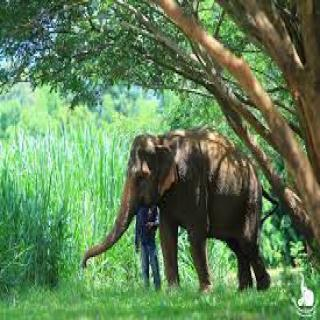Elephant: (79, 128, 276, 297)
